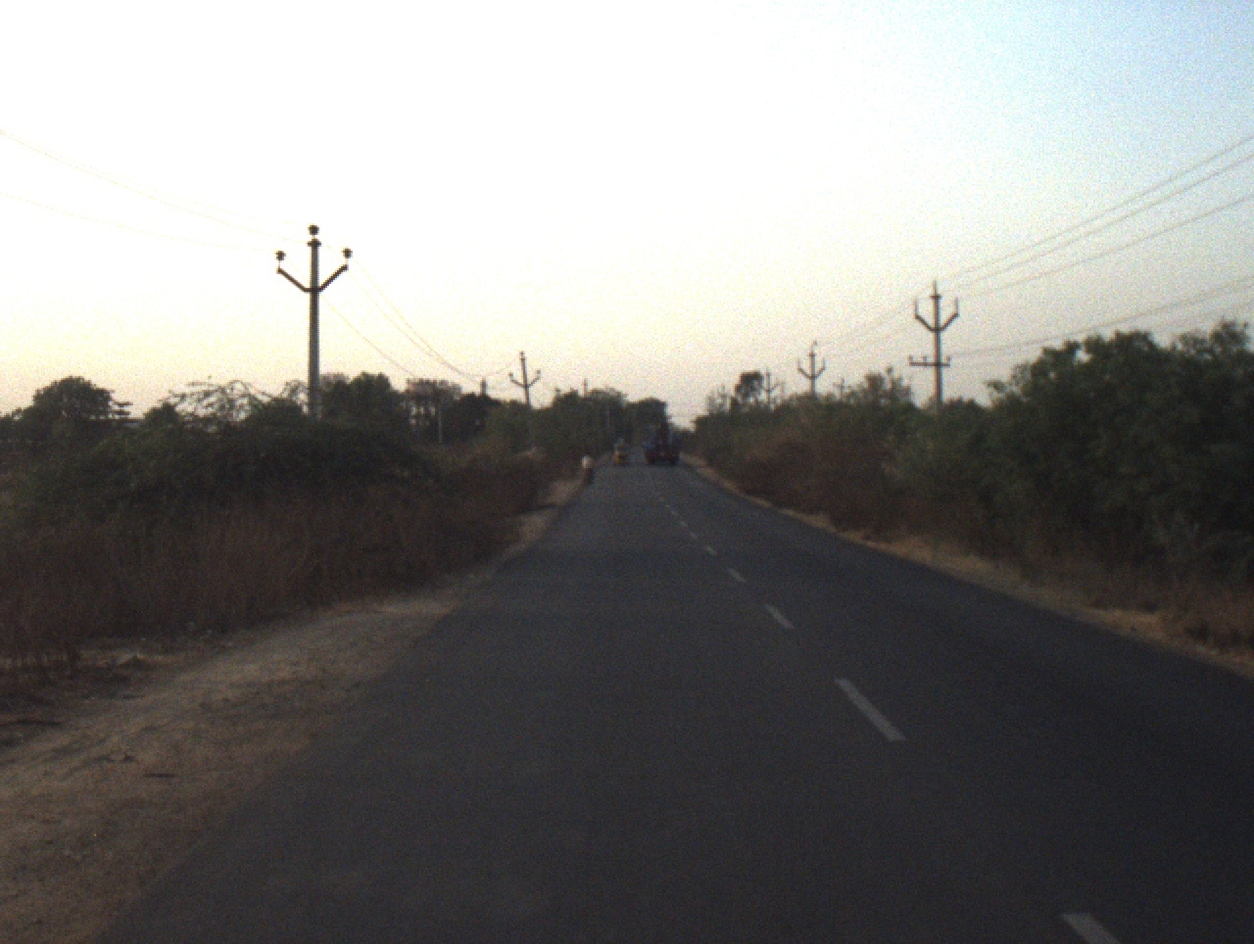autorickshaw: (607, 439, 631, 466)
bicycle: (582, 465, 594, 486)
rider: (579, 451, 594, 477)
vehicle fallback: (640, 420, 682, 467)
